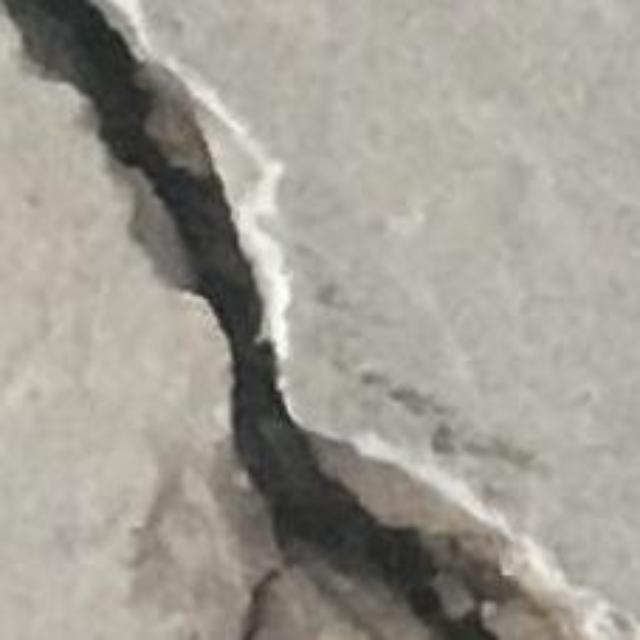crack: (0, 0, 558, 639)
